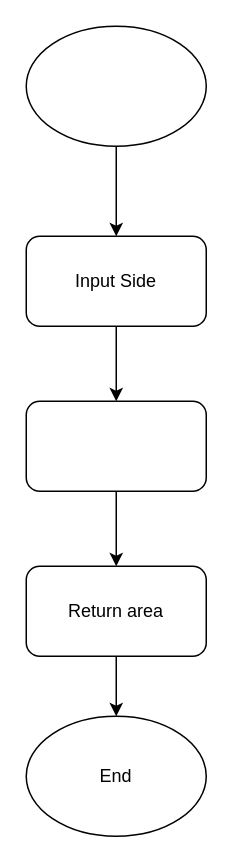
Some shapes in this 233 by 863 pixel diagram are drawn without their labels. The shapes that lost their labels are listed below. From the top down, each one's centre as x and y in pixels, then its label:
At point (115, 85): "Start".
At point (115, 445): "Hitung area = 6 x side x side".
